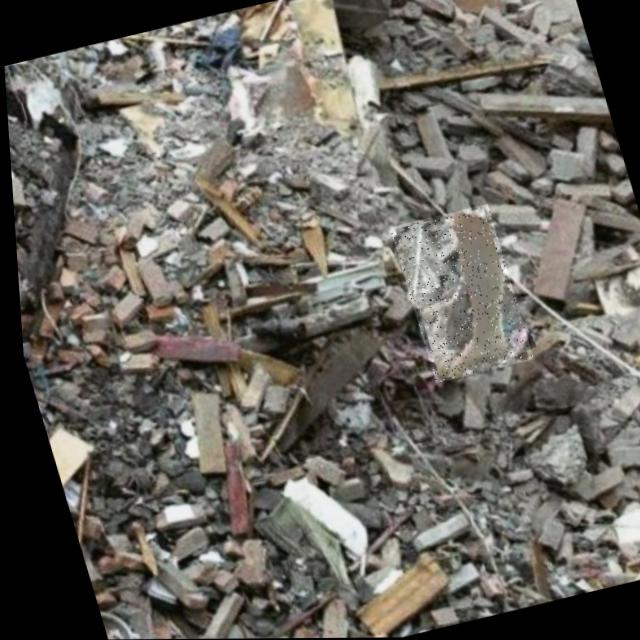Person in Rubble: (385, 204, 529, 383)
